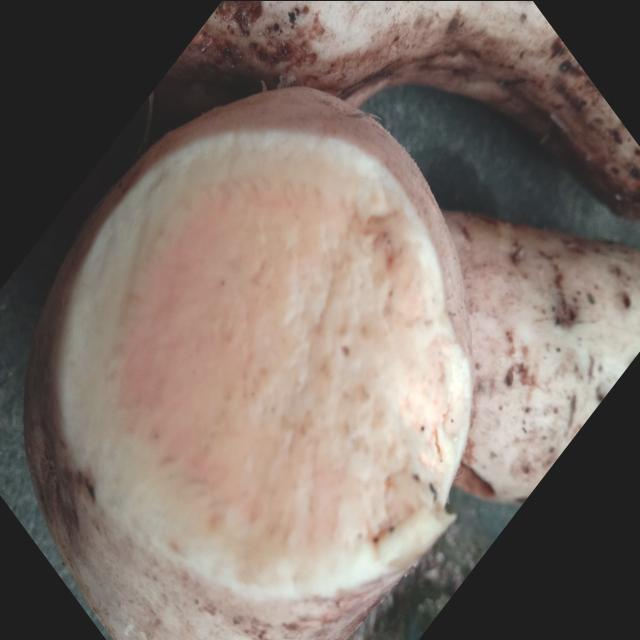Healthy Sweet Potato: (61, 130, 471, 597)
